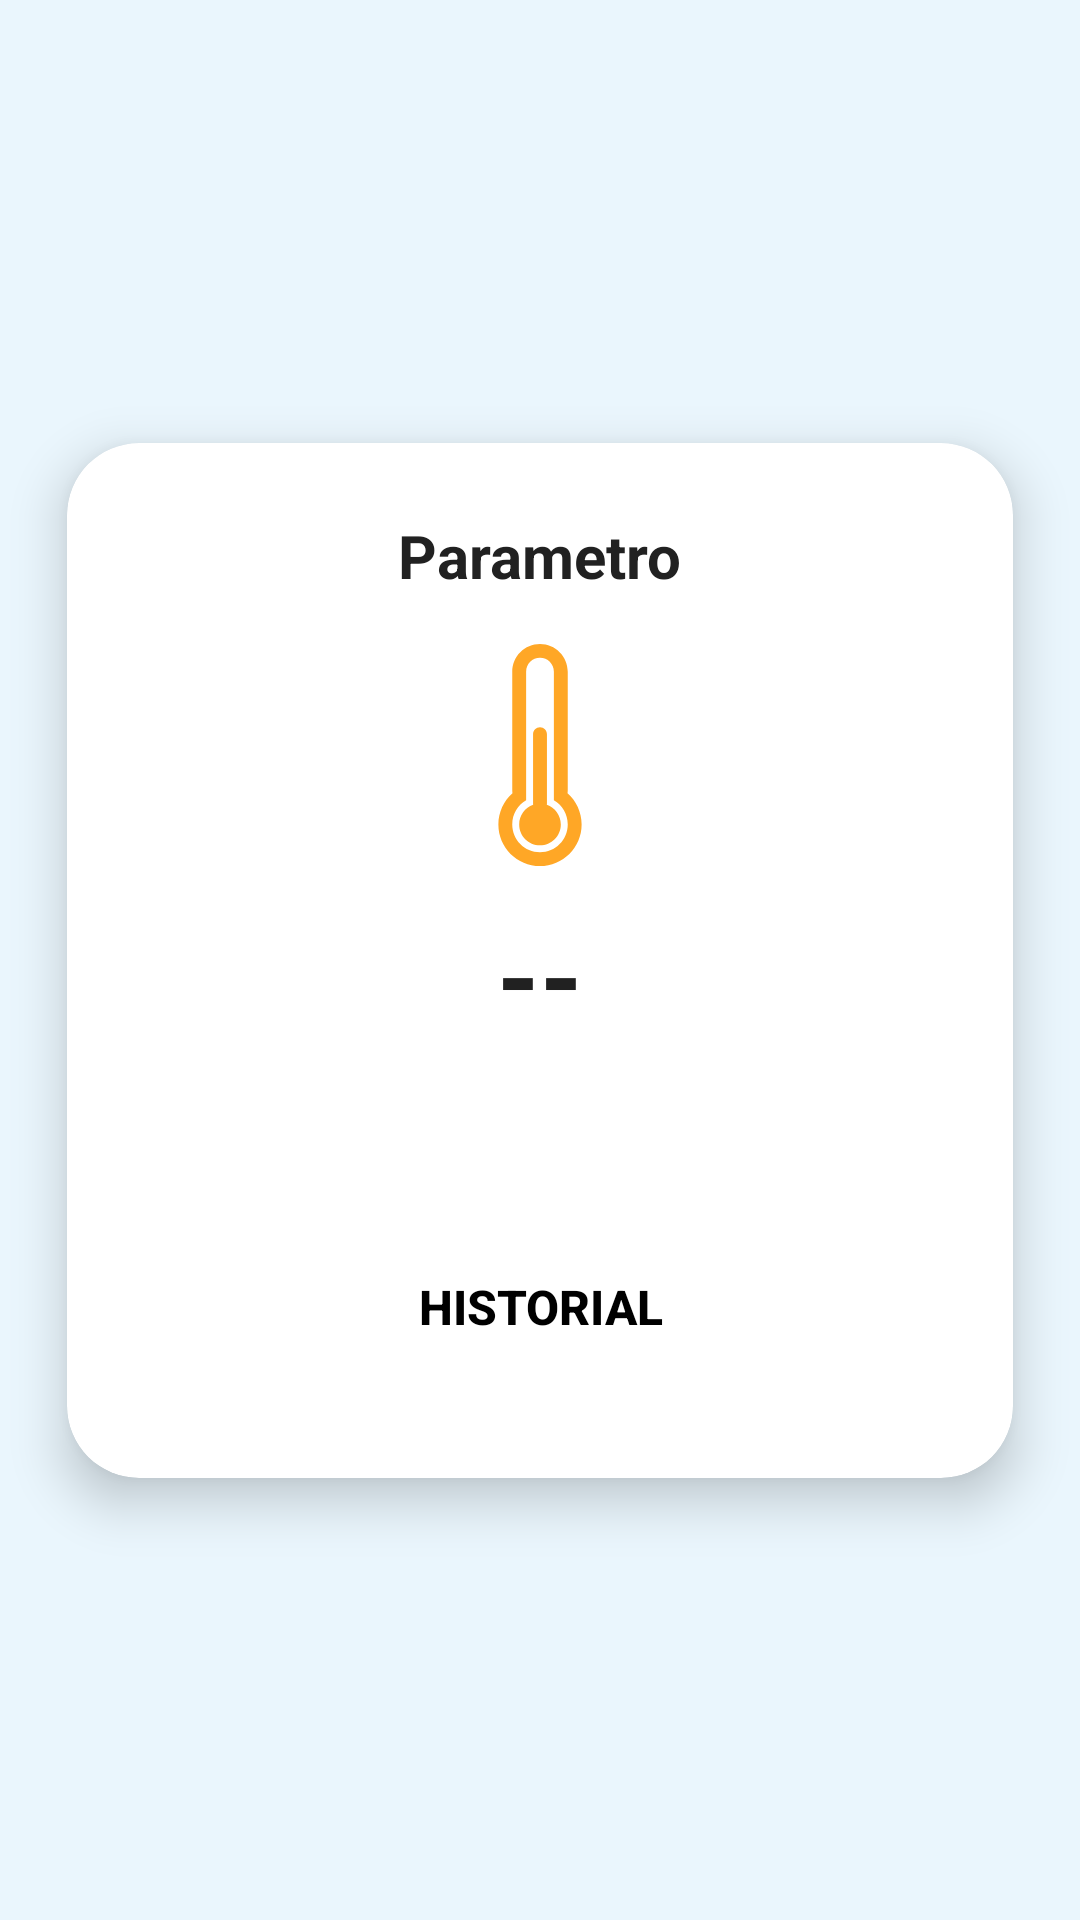

Locate icon controls on the screen. Image size 1080px x 1920px, boxes as (x1, y1, x2, y2).
thermometer half: (498, 644, 582, 866)
